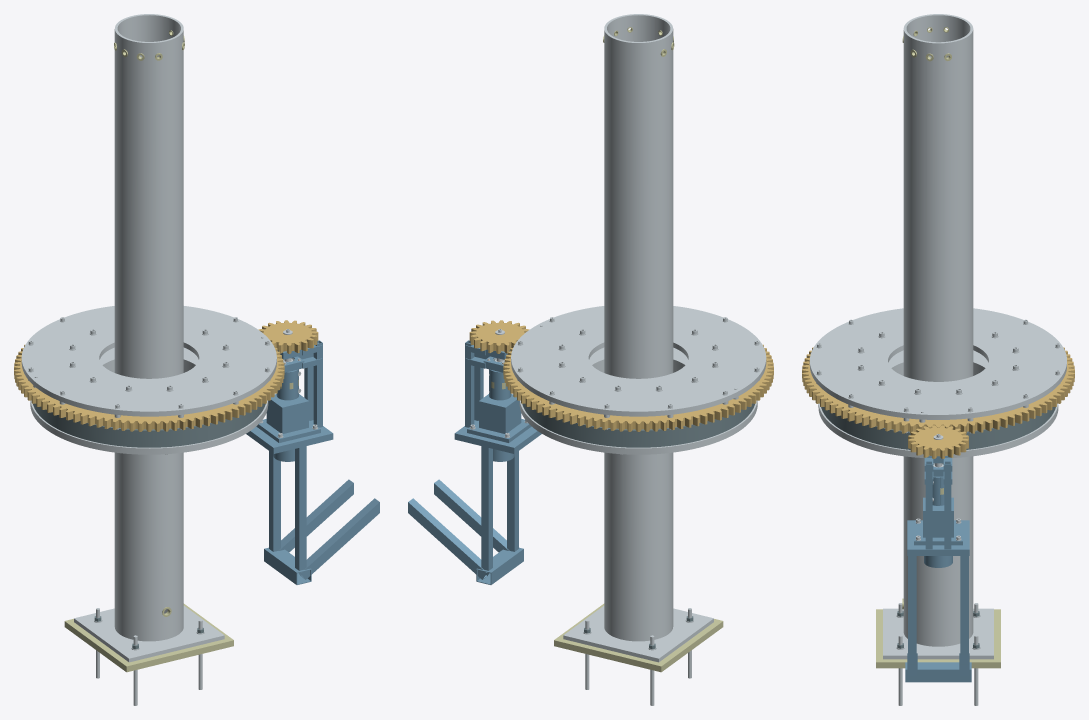
Rendered from Scallion_R20_MainDrive.glb.
3 views of the same model, side by side, from view 1: azimuth 30°, elevation 25°; view 2: azimuth 150°, elevation 25°; view 3: azimuth 270°, elevation 25° (orthographic).
Visible parts, largest first — view 1: fixed_central_mast, rotor_hub_hollow, rotor_motor_portal_and_bearing_stand, ring_gear, slew_fixed_race, rotor_servo_gearbox, mast_grout_pad, rotor_pinion; view 2: fixed_central_mast, rotor_hub_hollow, rotor_motor_portal_and_bearing_stand, ring_gear, slew_fixed_race, rotor_servo_gearbox, mast_grout_pad, rotor_pinion; view 3: fixed_central_mast, rotor_hub_hollow, rotor_motor_portal_and_bearing_stand, ring_gear, slew_fixed_race, rotor_pinion, rotor_servo_gearbox, mast_grout_pad, slew_rolling_race.
Boxes of the visible parts, <box> form: fixed_central_mast: <box>30,14,268,662</box>; rotor_hub_hollow: <box>21,306,276,416</box>; rotor_motor_portal_and_bearing_stand: <box>246,340,379,584</box>; ring_gear: <box>14,344,284,431</box>; slew_fixed_race: <box>33,403,265,447</box>; rotor_servo_gearbox: <box>256,394,320,461</box>; mast_grout_pad: <box>64,603,233,672</box>; rotor_pinion: <box>258,320,318,353</box>; fixed_central_mast: <box>519,14,757,662</box>; rotor_hub_hollow: <box>511,306,766,416</box>; rotor_motor_portal_and_bearing_stand: <box>408,340,541,584</box>; ring_gear: <box>503,344,773,431</box>; slew_fixed_race: <box>522,403,754,447</box>; rotor_servo_gearbox: <box>467,394,531,461</box>; mast_grout_pad: <box>554,603,723,672</box>; rotor_pinion: <box>469,320,529,353</box>; fixed_central_mast: <box>818,14,1058,659</box>; rotor_hub_hollow: <box>809,308,1066,419</box>; rotor_motor_portal_and_bearing_stand: <box>905,457,971,682</box>; ring_gear: <box>802,347,1074,433</box>; slew_fixed_race: <box>821,407,1055,449</box>; rotor_pinion: <box>908,425,968,458</box>; rotor_servo_gearbox: <box>914,497,962,567</box>; mast_grout_pad: <box>876,609,1000,668</box>; slew_rolling_race: <box>888,350,988,375</box>.
Bounding box in the file's own units: 1.11 × 2.1 × 0.784.
